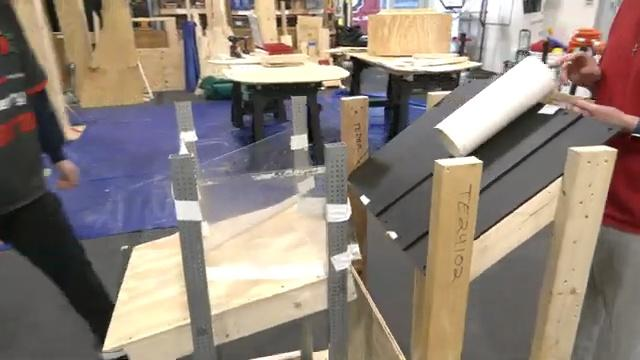CORAL: (433, 54, 556, 156)
